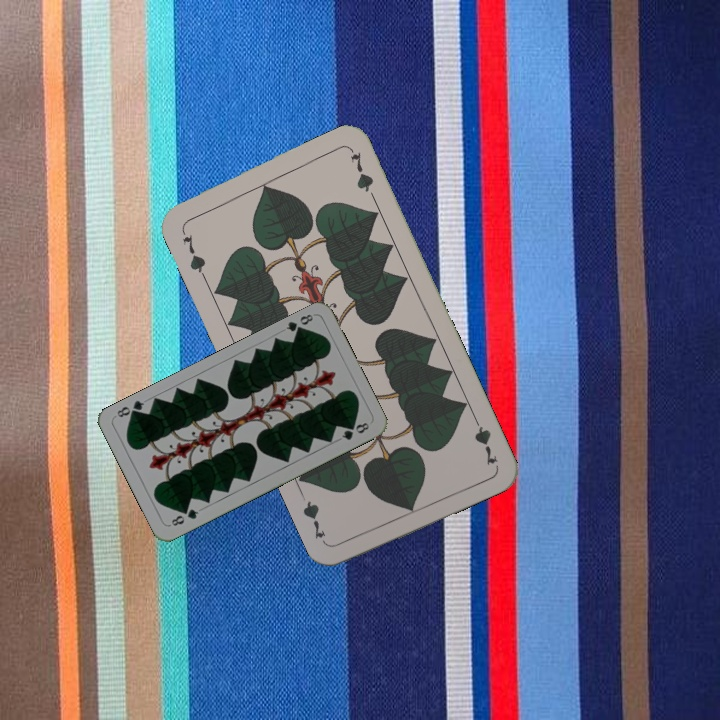G7: (468, 411, 500, 469), (177, 225, 209, 281)
G8: (282, 310, 316, 338), (167, 505, 201, 529)
